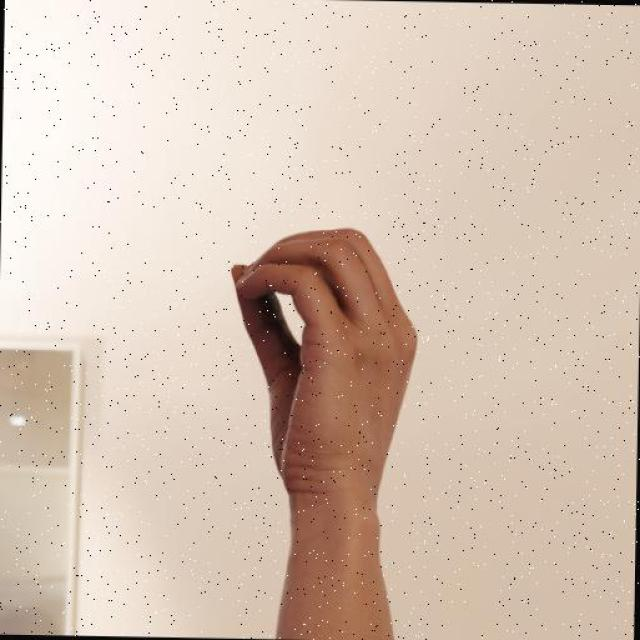O: (224, 221, 426, 499)
